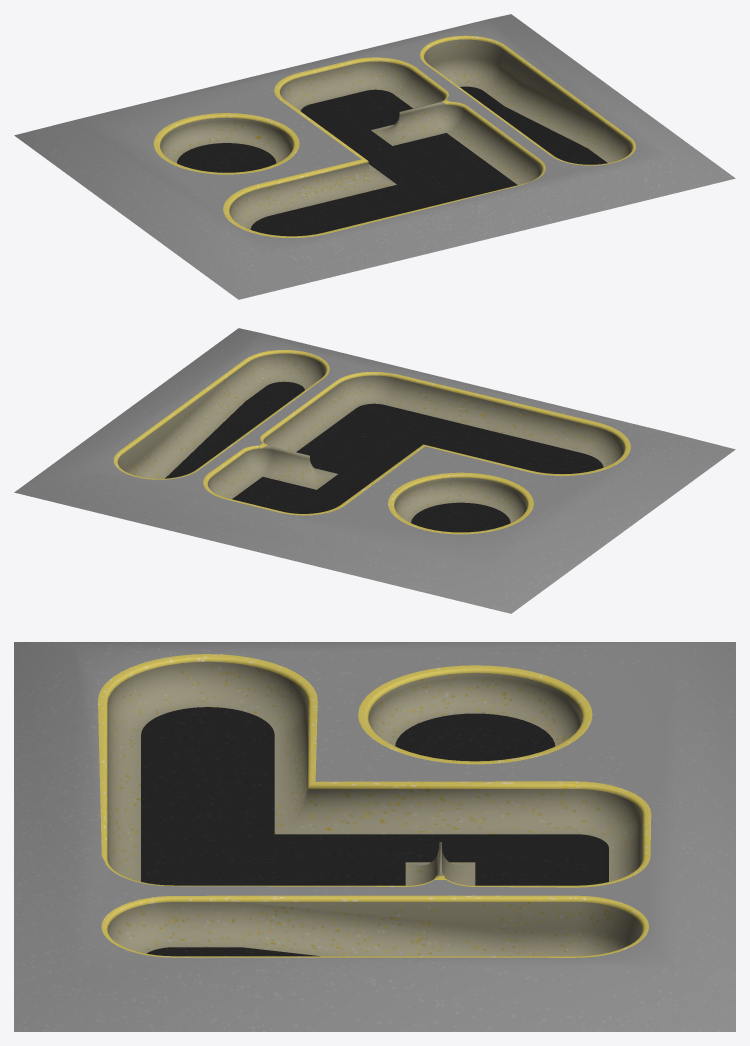
File: skatepark 3.fbx
The picture shows the model from 3 angles, top to bottom: view 1: azimuth 30°, elevation 25°; view 2: azimuth 150°, elevation 25°; view 3: azimuth 270°, elevation 25°; orthographic projection. The views are drawn at different scales.
Visible parts, largest first — view 1: Plane.003; view 2: Plane.003; view 3: Plane.003.
Part boxes in pixels (x1=…): Plane.003: x1=14, y1=14, x2=735, y2=299; Plane.003: x1=14, y1=328, x2=735, y2=613; Plane.003: x1=14, y1=642, x2=735, y2=1031.
Bounding box in the file's own units: 27.6 × 2.15 × 21.6.
